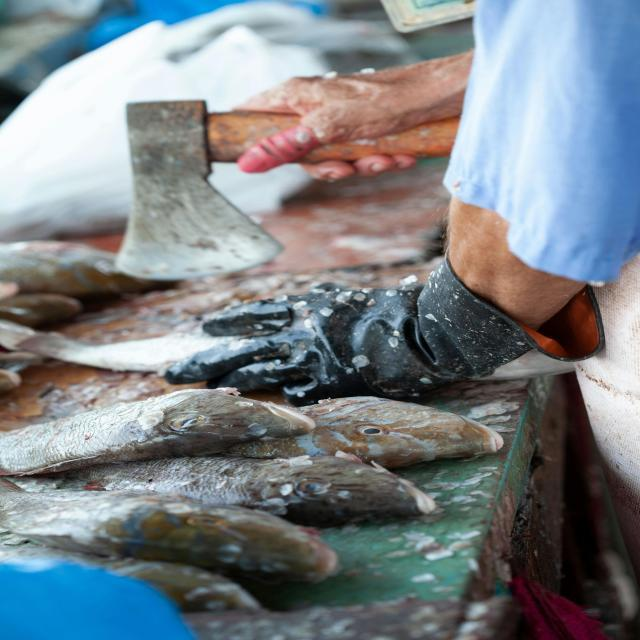Axe: (118, 101, 299, 279), (304, 118, 459, 162)
